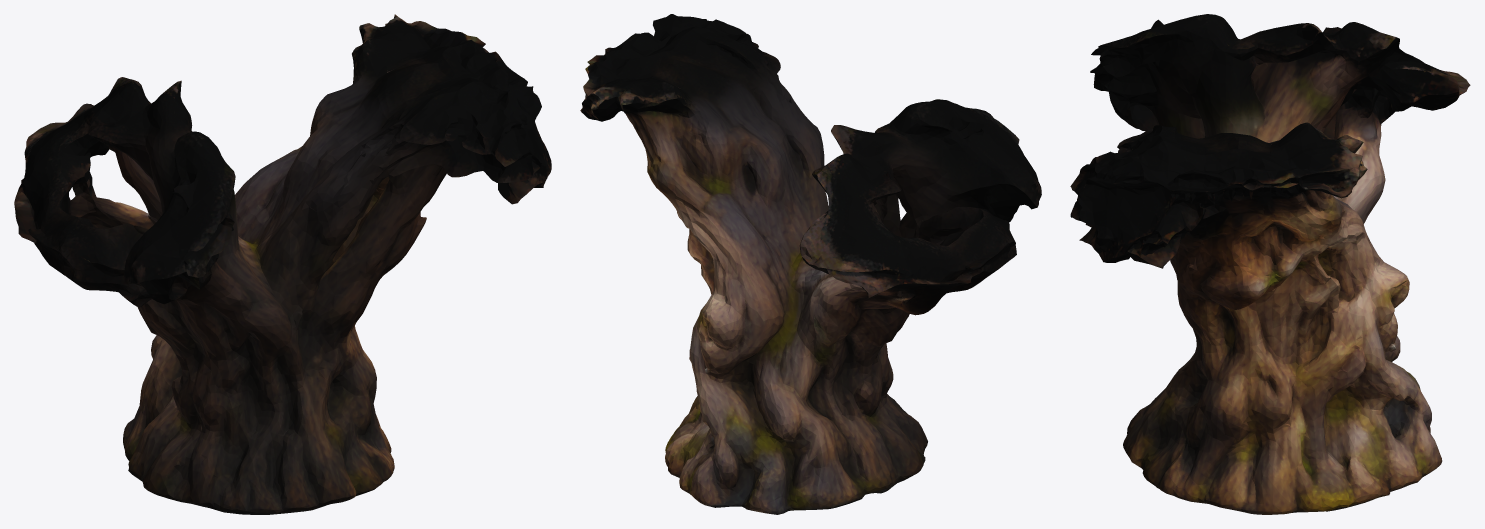
File: veg_olive__v3b.glb
3 views of the same model, side by side, from view 1: azimuth 30°, elevation 25°; view 2: azimuth 150°, elevation 25°; view 3: azimuth 270°, elevation 25° (orthographic). The views are drawn at different scales.
Parts seen in each view (by area): view 1: world; view 2: world; view 3: world.
Part boxes in pixels (box(x1,y1,x2,y2)): world: box(14, 14, 551, 514); world: box(580, 14, 1041, 514); world: box(1070, 14, 1470, 514).
Size of the model in its own units: 1 by 0.8539 by 0.7637.
1 material, 1 textured.
